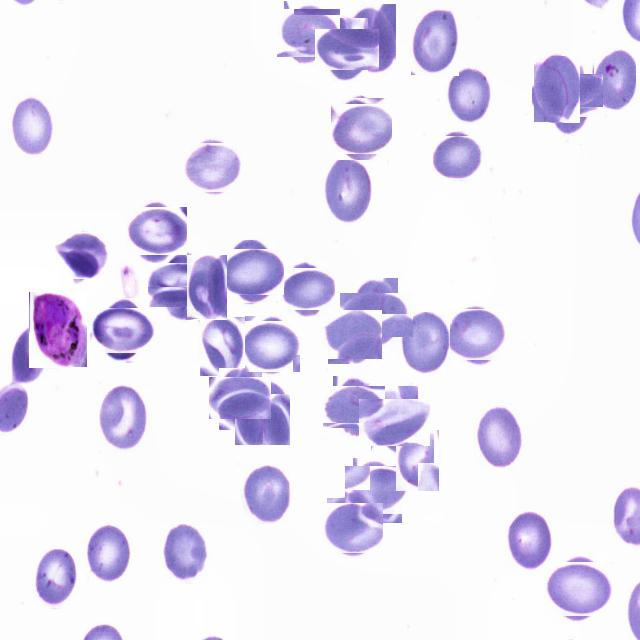difficult: (29, 292, 87, 368)
red blood cell: (547, 558, 610, 621), (234, 379, 290, 446), (364, 392, 424, 452), (346, 286, 406, 344), (98, 384, 148, 453), (539, 66, 597, 125), (447, 306, 505, 364), (154, 256, 212, 314), (348, 4, 396, 74), (325, 158, 375, 225), (410, 8, 459, 76), (349, 462, 406, 519), (400, 310, 450, 374), (533, 56, 580, 123), (242, 318, 298, 374), (280, 5, 336, 61), (333, 101, 389, 157), (506, 509, 554, 574), (241, 464, 290, 527), (95, 303, 151, 358), (324, 501, 380, 556), (128, 203, 184, 258), (84, 524, 134, 585), (476, 405, 522, 470), (226, 244, 280, 299), (326, 307, 380, 361), (328, 381, 381, 434), (187, 141, 240, 194), (321, 23, 374, 76), (162, 524, 208, 584), (58, 229, 110, 282), (396, 430, 440, 492), (214, 372, 266, 424), (33, 549, 78, 609), (10, 96, 54, 157), (186, 255, 227, 320), (200, 317, 245, 376), (594, 49, 636, 108), (282, 264, 332, 313), (448, 68, 493, 122), (434, 134, 482, 182)
